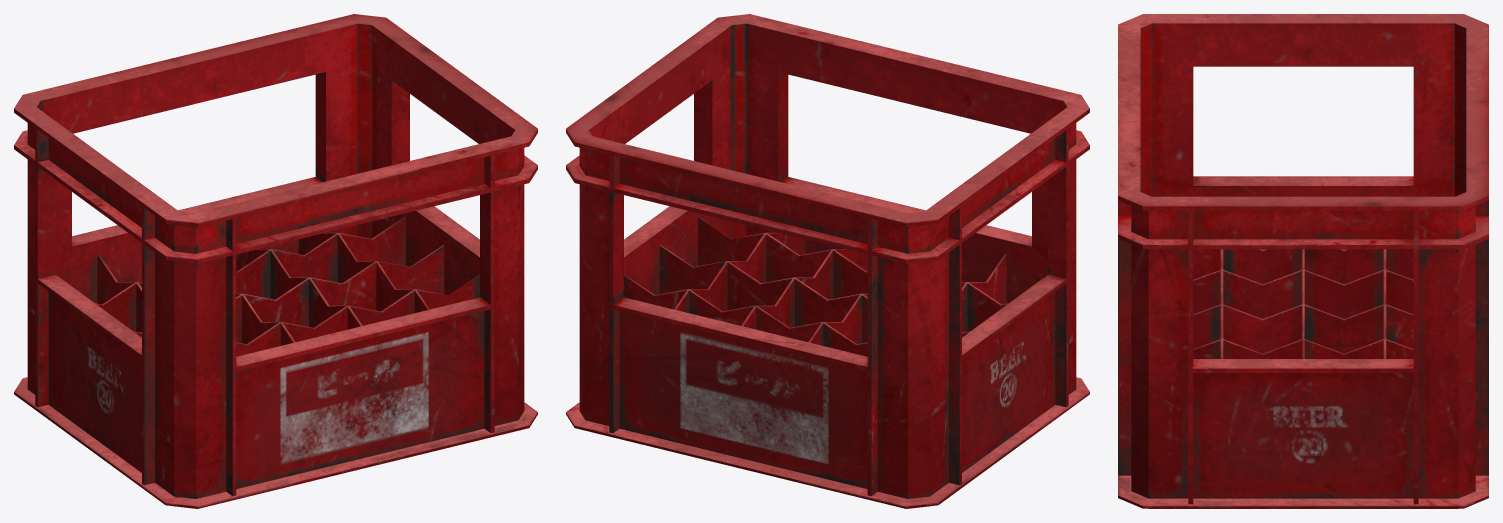
The model's file is BottleCase_A.fbx.
3 renders of one model, left to right at view 1: azimuth 30°, elevation 25°; view 2: azimuth 150°, elevation 25°; view 3: azimuth 270°, elevation 25°, orthographic. The views are drawn at different scales.
Visible parts, largest first — view 1: BottleCase_A; view 2: BottleCase_A; view 3: BottleCase_A.
Part boxes in pixels (box(x1,y1,x2,y2)): BottleCase_A: box(14, 14, 537, 508); BottleCase_A: box(566, 14, 1089, 508); BottleCase_A: box(1118, 14, 1488, 508).
Size of the model in its own units: 46.07 by 34.46 by 37.54.
1 material, 1 textured.
